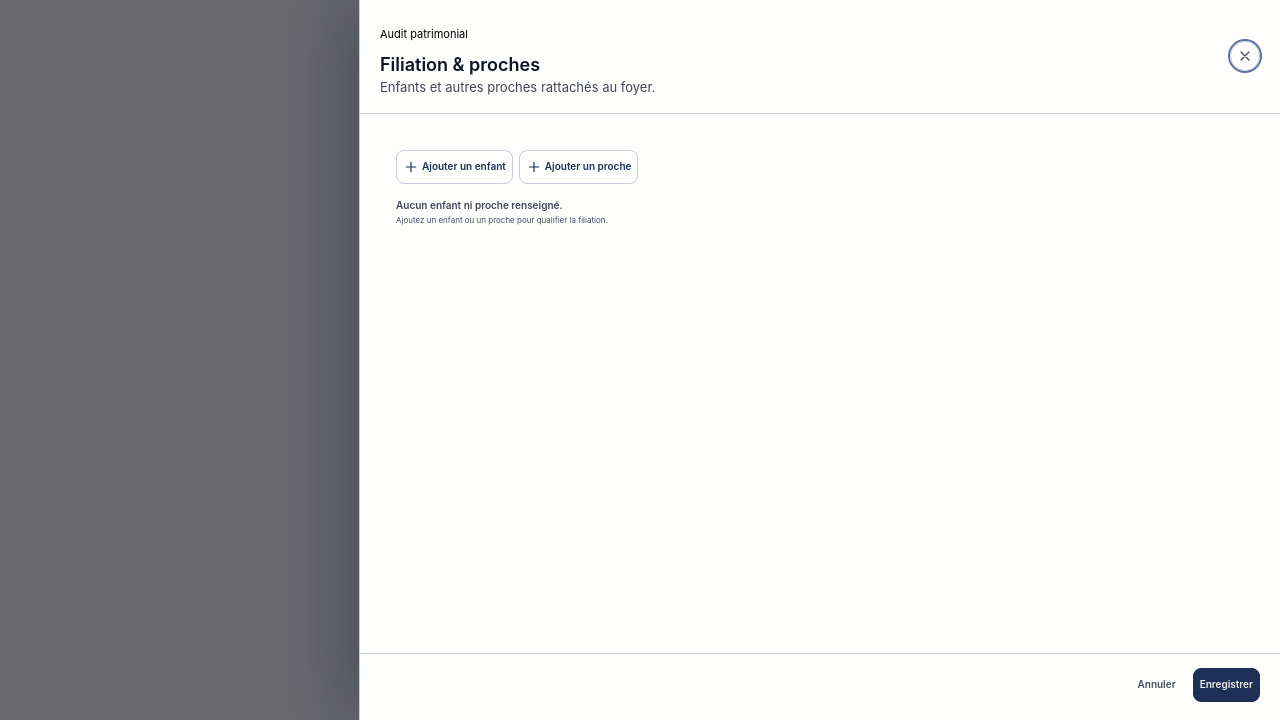
Test case: FiliationDrawer › active Fiscalement à charge par défaut et lie Scolarité + Garde alternée à ce statut
This screenshot has width=1280, height=720.
Click the button "Ajouter un enfant": (454,167) [396,150,513,184]
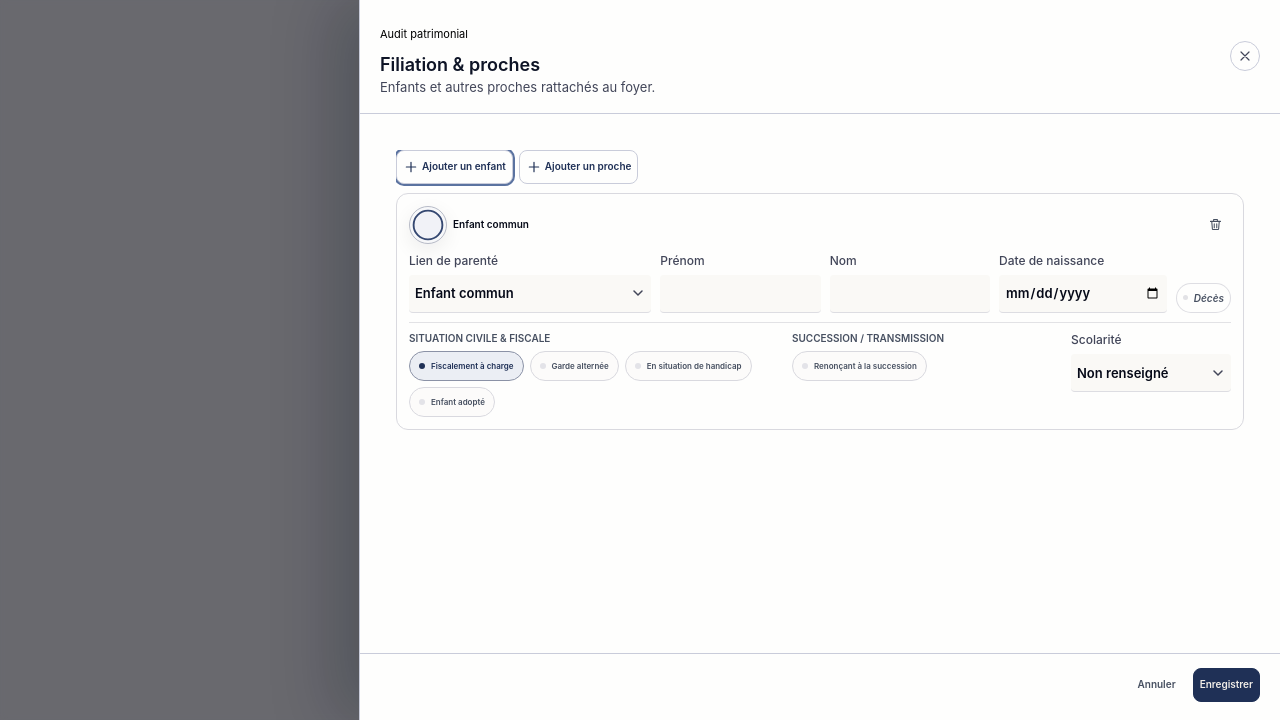
expect the text "Scolarité" is shown: met, box [1071,332,1122,347]
expect the button "Garde alternée" is shown: met, box [530,351,619,381]
Click the button "Fiscalement à charge": (466,366) [409,351,524,381]
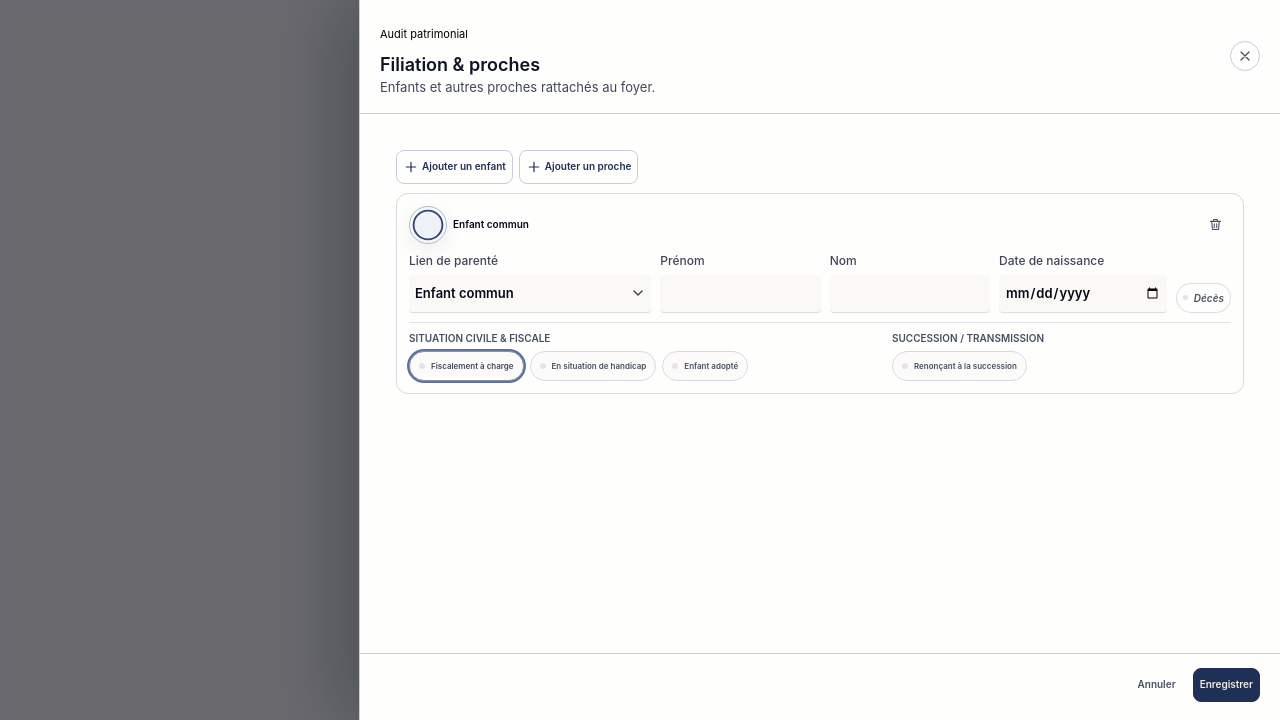
expect the text "Scolarité" is gone: met
expect the button "Garde alternée" is gone: met
Click the button "Fiscalement à charge": (466,366) [409,351,524,381]
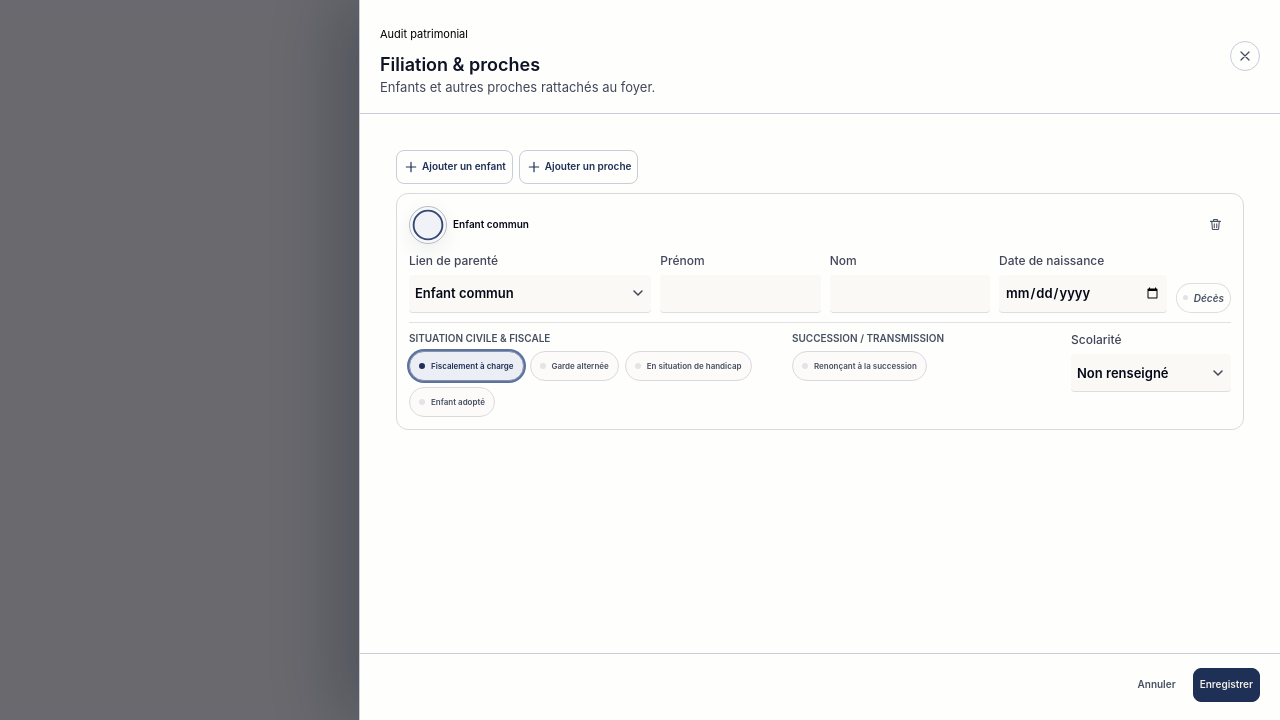
expect the text "Scolarité" is shown: met, box [1071,332,1122,347]
expect the button "Garde alternée" is shown: met, box [530,351,619,381]
